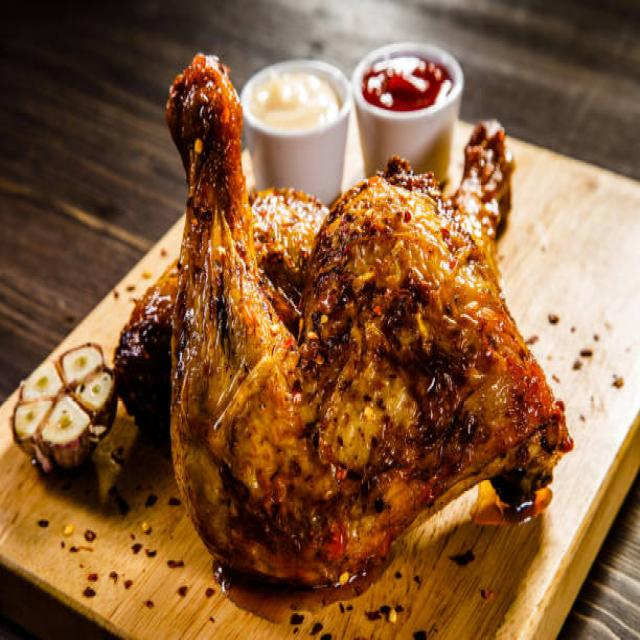CHICKEN FRY: (115, 58, 570, 586)
